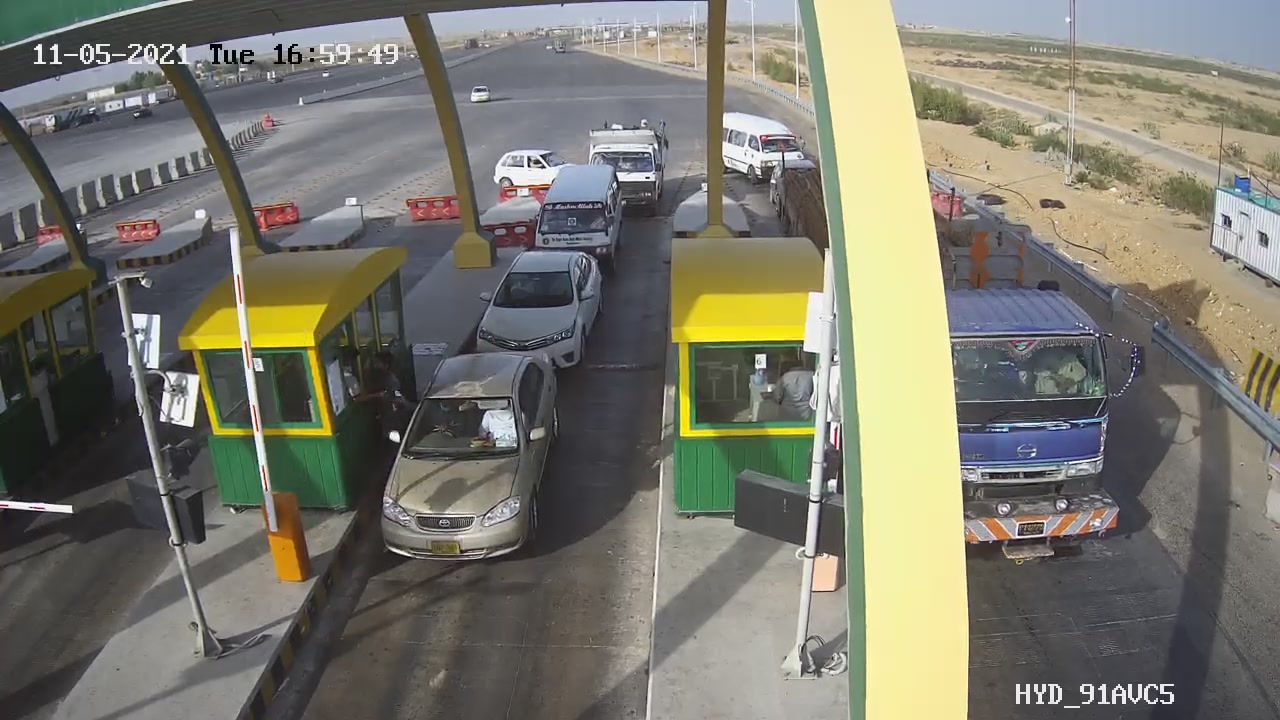F1: (363, 341, 572, 582), (455, 237, 614, 382)
